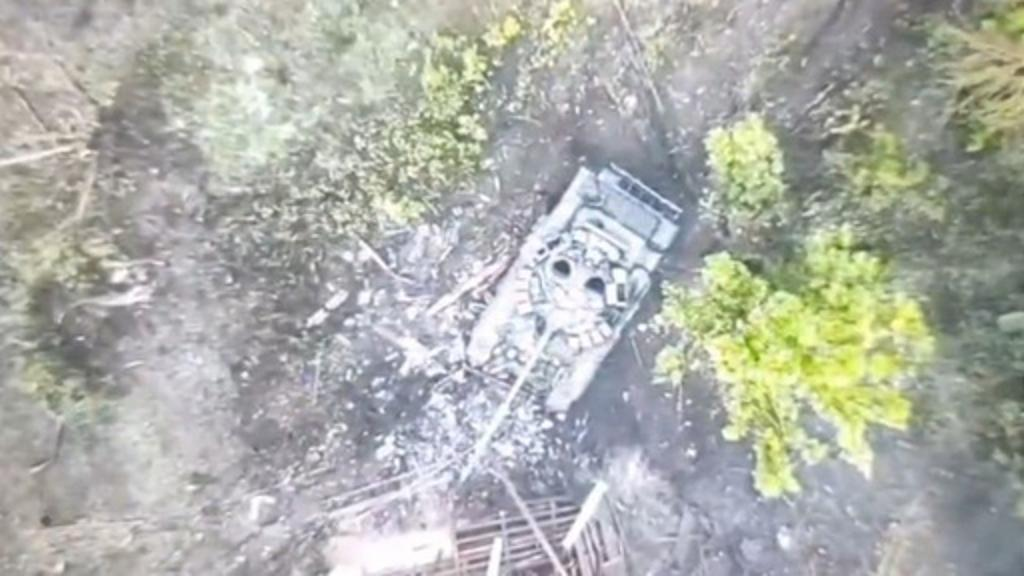TANK: (446, 148, 694, 490)
